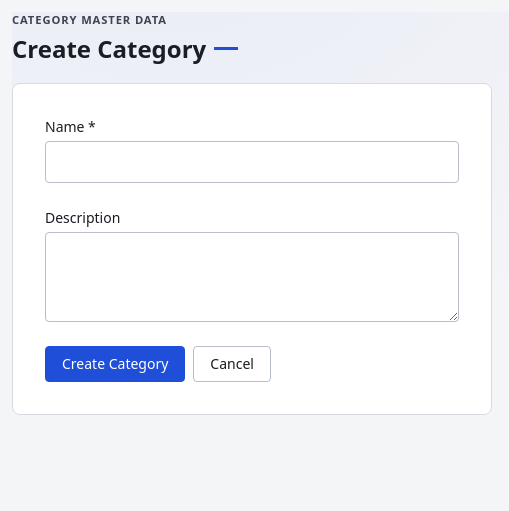
Test: CategoryCreatePage › shows a duplicate-name conflict from the backend
Type "Administrative" into the field labelled "Name *".
click(252, 162); type("Administrative")  # box [45,141,459,183]
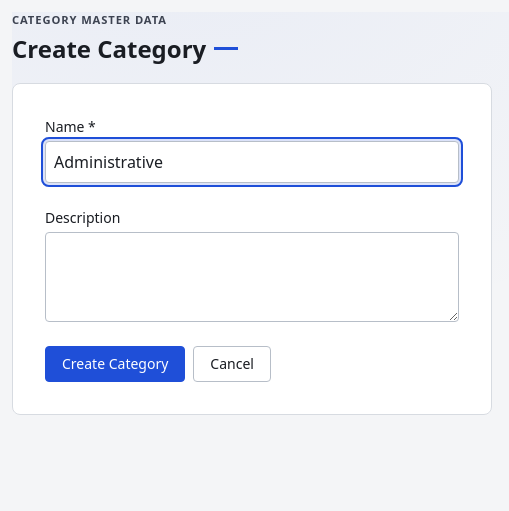
Click the button "Create Category".
click(115, 364)  # box [45,346,185,382]
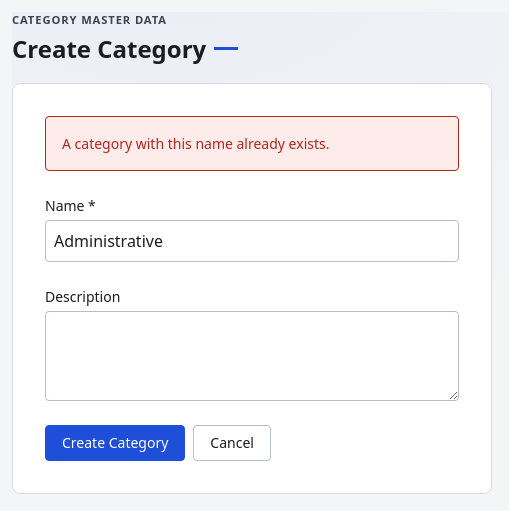
expect the message shows "already exists": met, box [62,134,330,153]
